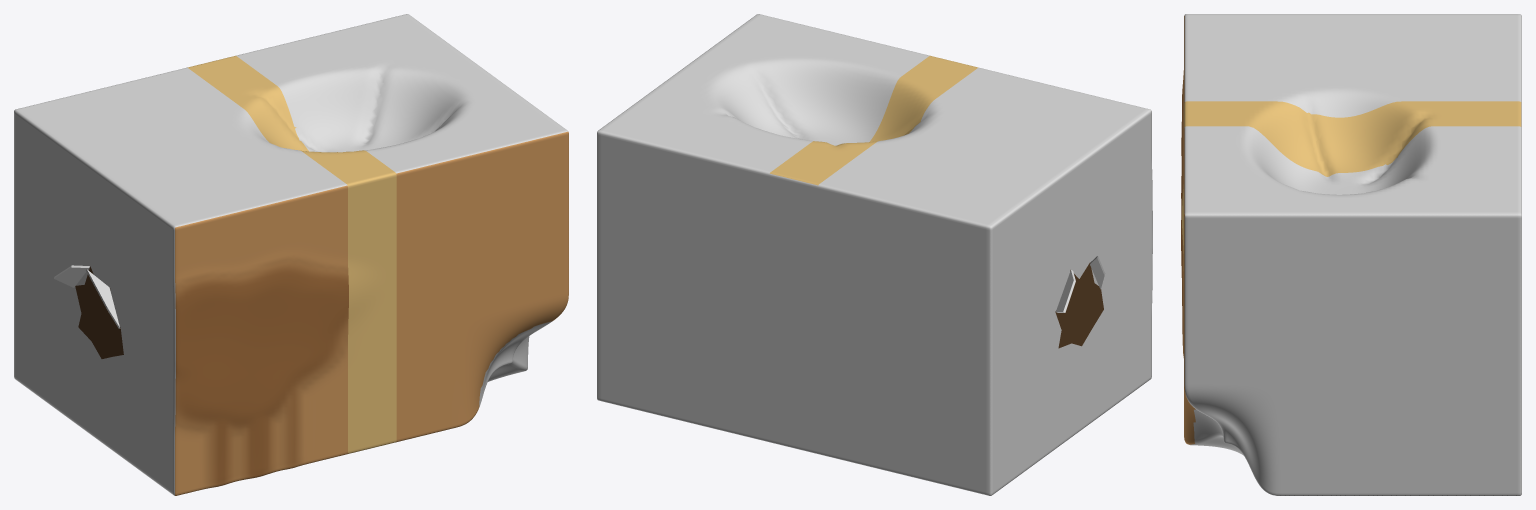
Rendered from damaged_box.glb.
3 views of the same model, side by side, from view 1: azimuth 30°, elevation 25°; view 2: azimuth 150°, elevation 25°; view 3: azimuth 270°, elevation 25° (orthographic). The views are drawn at different scales.
Parts seen in each view (by area): view 1: ContinuousDamagedParcel, TornFiberOpening; view 2: ContinuousDamagedParcel, TornFiberOpening; view 3: ContinuousDamagedParcel.
Part boxes in pixels (x1,y1,x2,y2): ContinuousDamagedParcel: (14, 14, 568, 495); TornFiberOpening: (75, 266, 123, 358); ContinuousDamagedParcel: (597, 14, 1152, 495); TornFiberOpening: (1055, 262, 1103, 348); ContinuousDamagedParcel: (1181, 14, 1521, 495).
Size of the model in its own units: 3.75 by 2.35 by 2.57.
